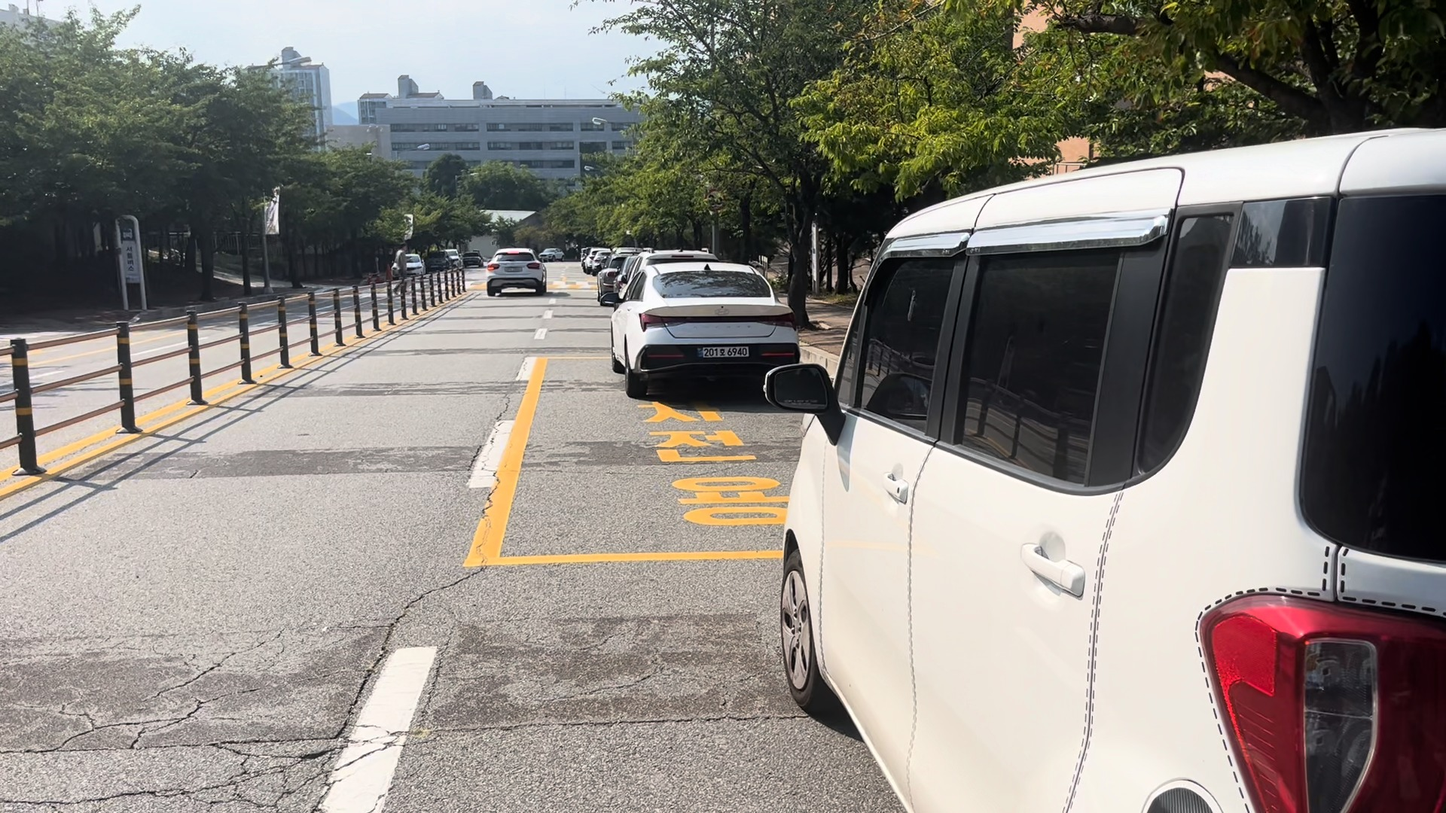door_handle: (1021, 545, 1084, 597), (884, 473, 909, 503)
side_mirror: (766, 364, 831, 409)
tail_light: (1201, 596, 1445, 812), (758, 312, 795, 328), (639, 312, 670, 330), (526, 262, 541, 269), (487, 263, 499, 270)
